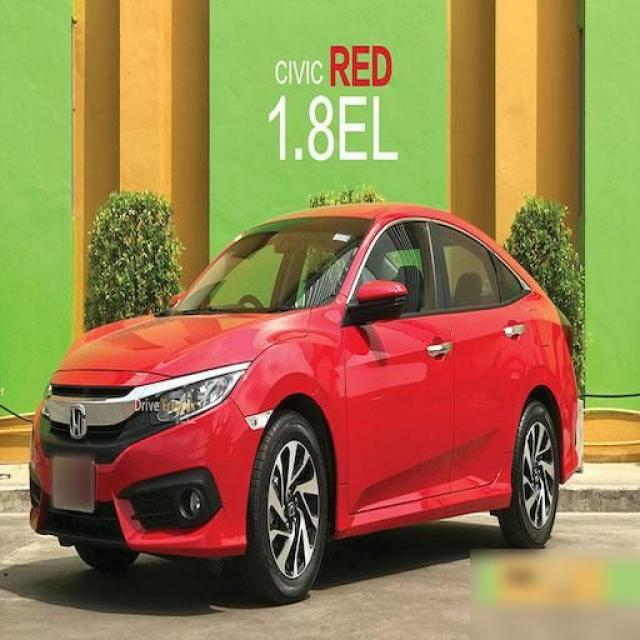back_left_door: (436, 217, 533, 492)
front_bumper: (28, 358, 262, 557)
front_glass: (173, 215, 376, 314)
front_left_door: (342, 217, 456, 515)
front_left_light: (150, 370, 247, 424)
hood: (57, 307, 309, 377)
left_mirror: (347, 279, 407, 326)
wheel: (240, 399, 560, 603)
